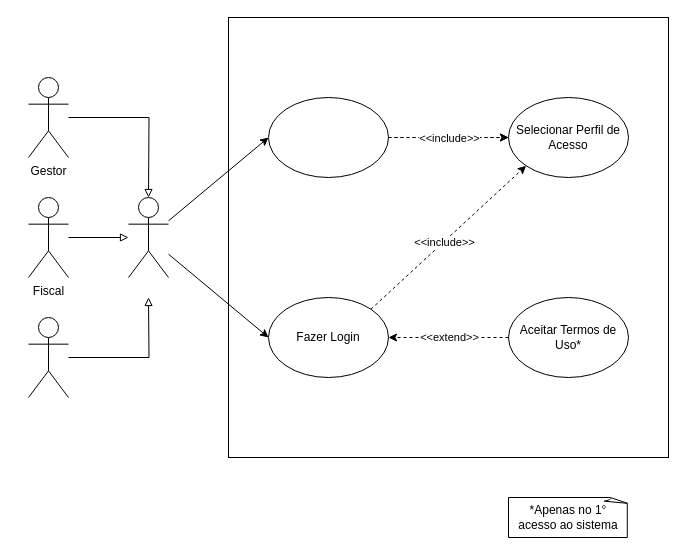
This 686x555 diagram has some shape labels left out. Here are the shapes that lost their labels. From the top down, the centre of each, then its label:
At point (328, 137): "Realizar Cadastro".
At point (148, 237): "Usuário".
At point (48, 357): "Funcionário".
